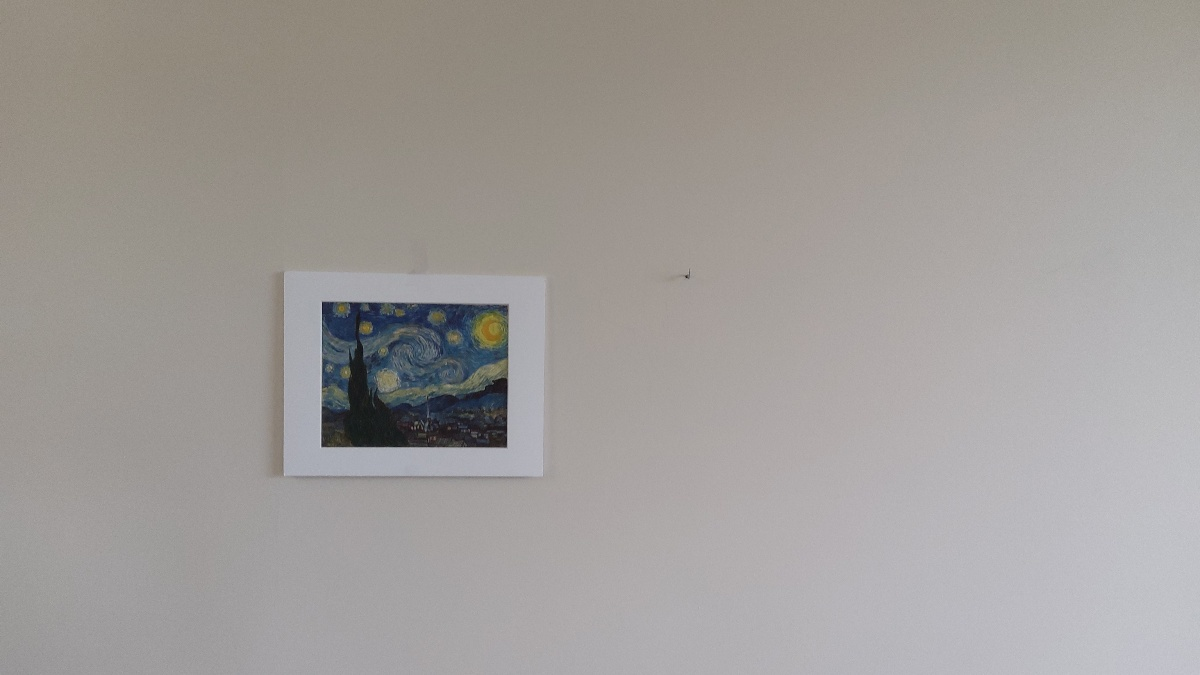painting: (314, 292, 516, 457)
